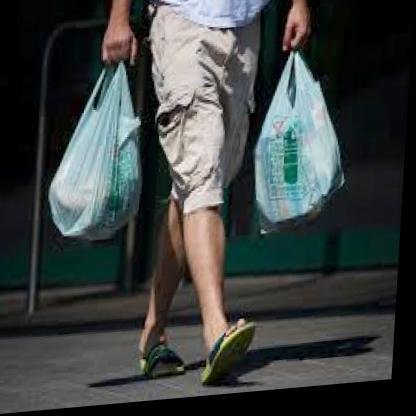Plastic: (40, 33, 168, 245), (238, 30, 362, 240)
